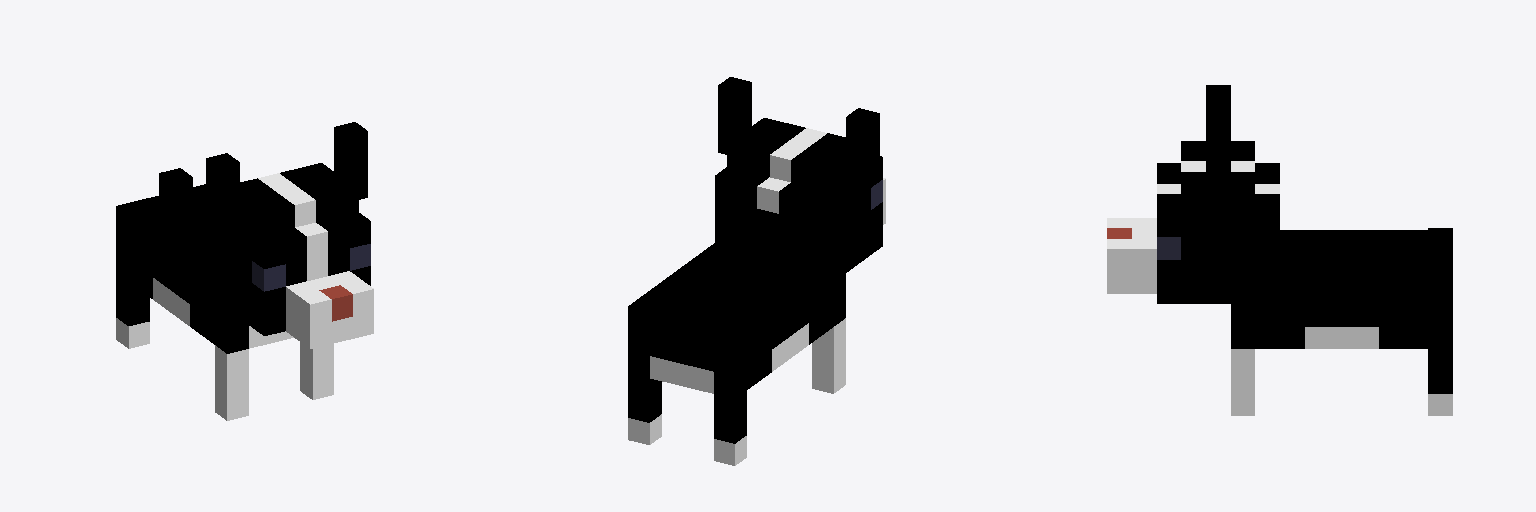
The picture shows the model from 3 angles: view 1: azimuth 30°, elevation 25°; view 2: azimuth 150°, elevation 25°; view 3: azimuth 270°, elevation 25°; orthographic projection.
Visible parts, largest first — view 1: Matrix; view 2: Matrix; view 3: Matrix.
Boxes of the visible parts, <box> form: Matrix: <box>116,122,373,420</box>; Matrix: <box>628,77,885,465</box>; Matrix: <box>1107,85,1452,415</box>.
Bounding box in the file's own units: 7 × 12 × 14.
1 materials, 1 textured.